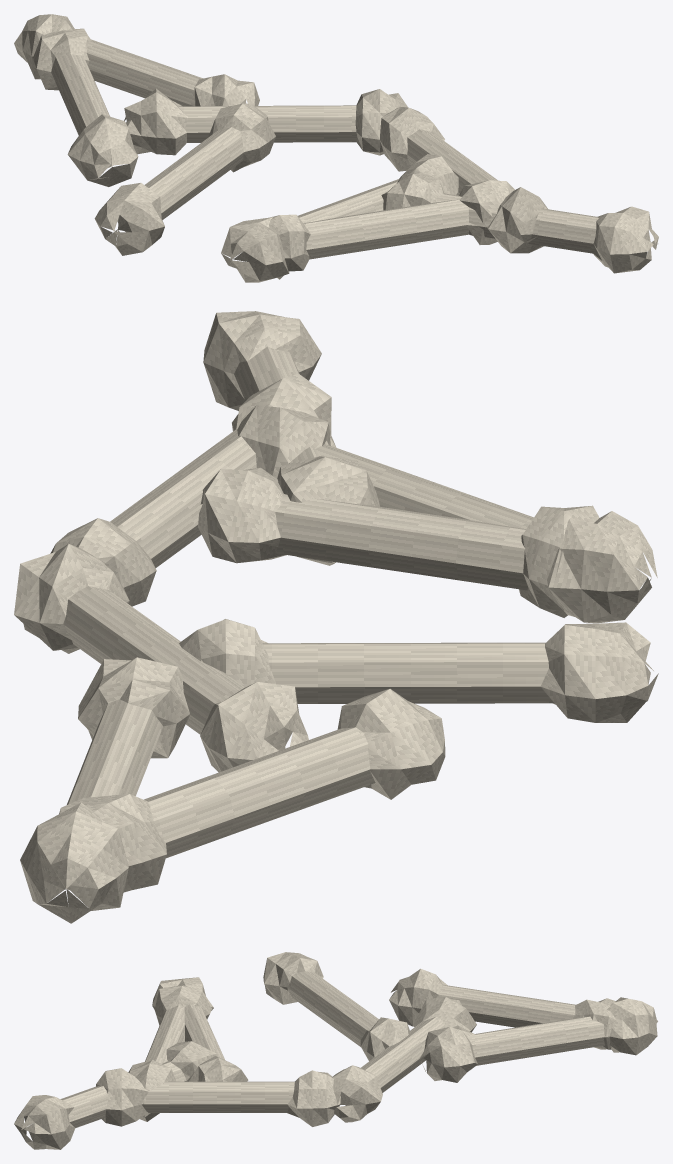
The model's file is cave-and-crystal-networks-bone-pile-c78a9f7c.glb.
3 renders of one model, top to bottom at view 1: azimuth 30°, elevation 25°; view 2: azimuth 150°, elevation 25°; view 3: azimuth 270°, elevation 25°, orthographic. The views are drawn at different scales.
Parts seen in each view (by area): view 1: bone-pile; view 2: bone-pile; view 3: bone-pile.
Part boxes in pixels (x1,y1,x2,y2): bone-pile: (14, 14, 658, 282); bone-pile: (14, 311, 658, 923); bone-pile: (14, 952, 657, 1149).
Size of the model in its own units: 0.8457 by 0.1367 by 1.35.
Materials: 1 (1 with a texture image).
